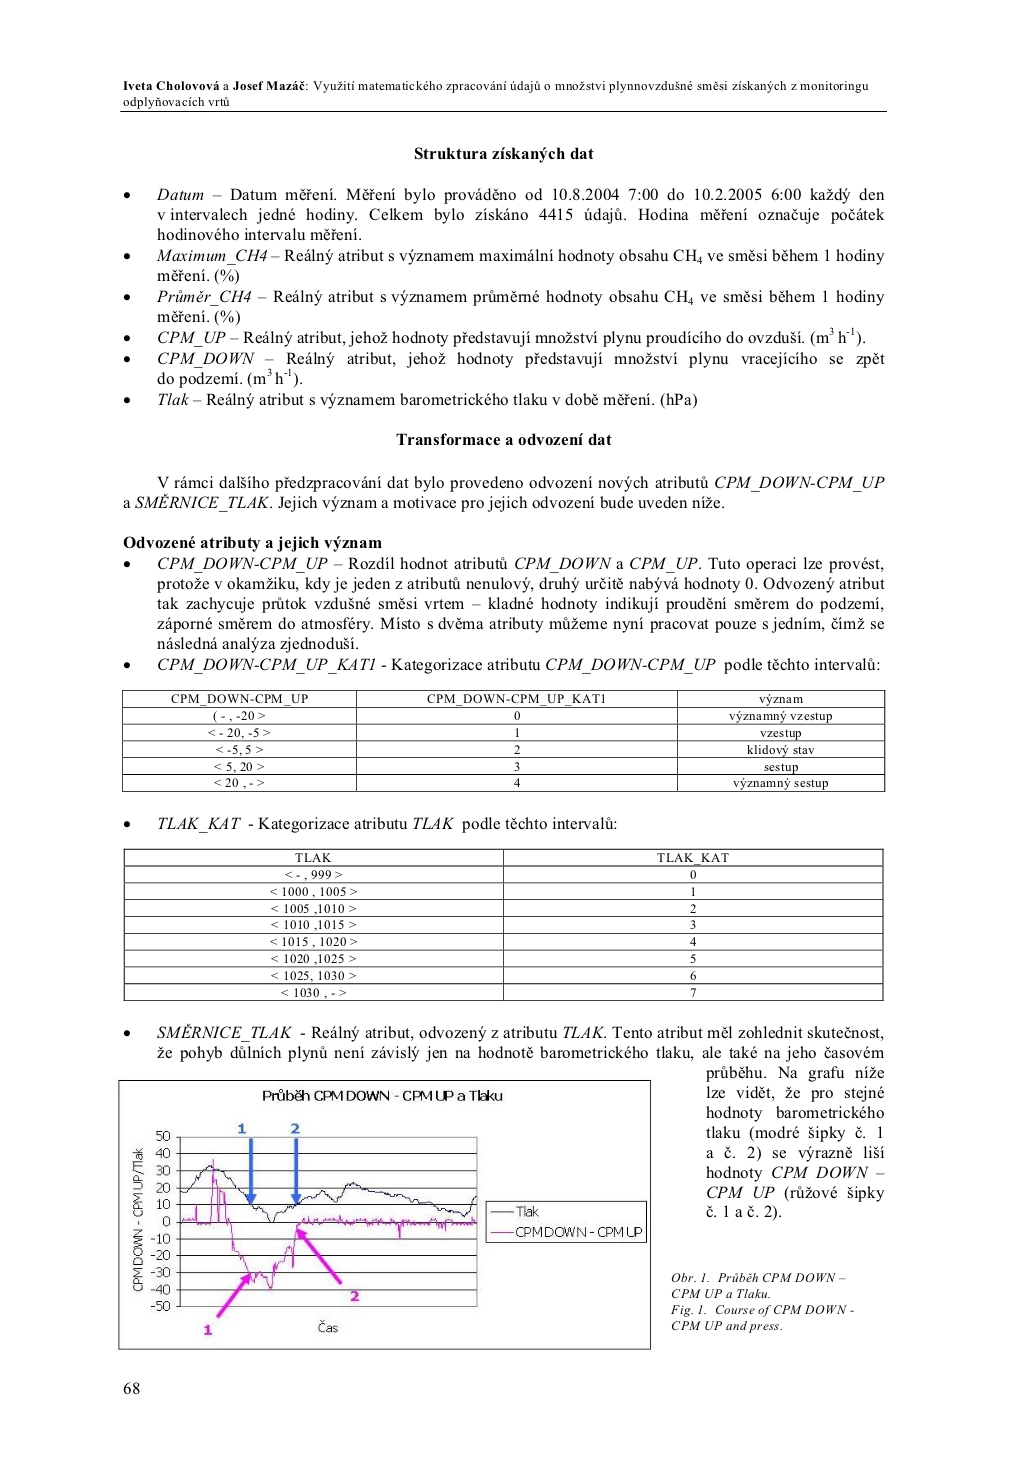Table: (123, 847, 883, 1001), (122, 688, 885, 792)
figure: (118, 1078, 651, 1349)
